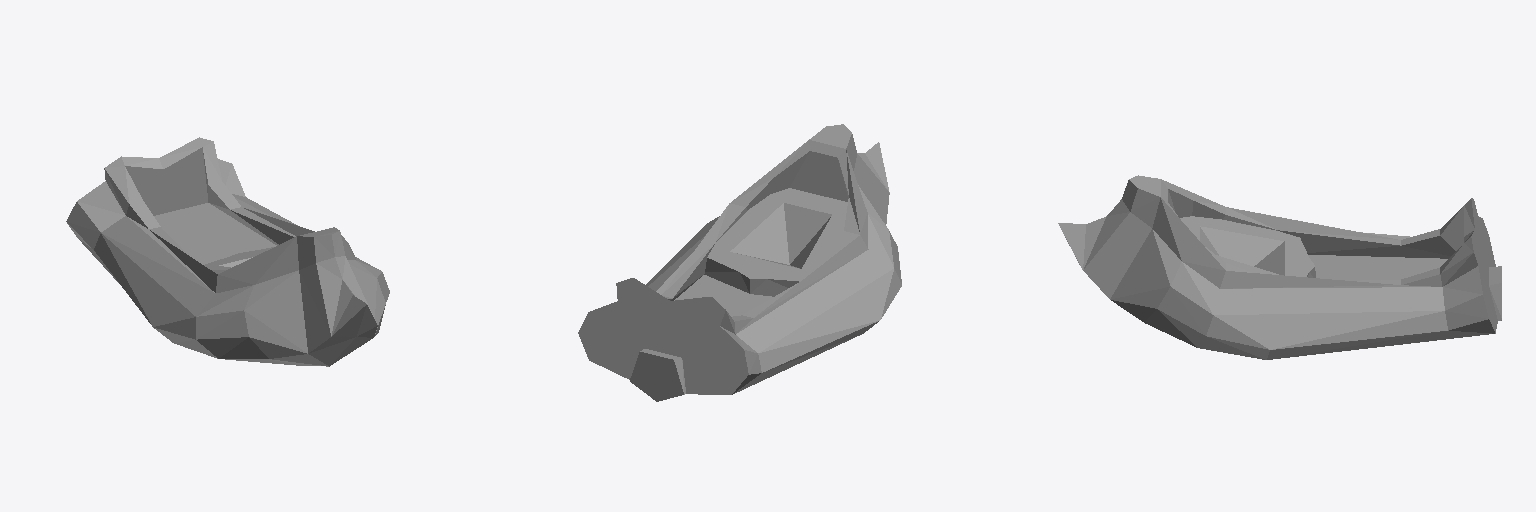
Rendered from boatCol.obj.
The picture shows the model from 3 angles: view 1: azimuth 30°, elevation 25°; view 2: azimuth 150°, elevation 25°; view 3: azimuth 270°, elevation 25°; orthographic projection.
Visible parts, largest first — view 1: rdmobj00; view 2: rdmobj00; view 3: rdmobj00.
Part boxes in pixels (bbox=[...]): rdmobj00: bbox=[66, 137, 389, 366]; rdmobj00: bbox=[578, 124, 901, 401]; rdmobj00: bbox=[1058, 175, 1501, 359].
Bounding box in the file's own units: 1.77 × 1.2 × 3.16.